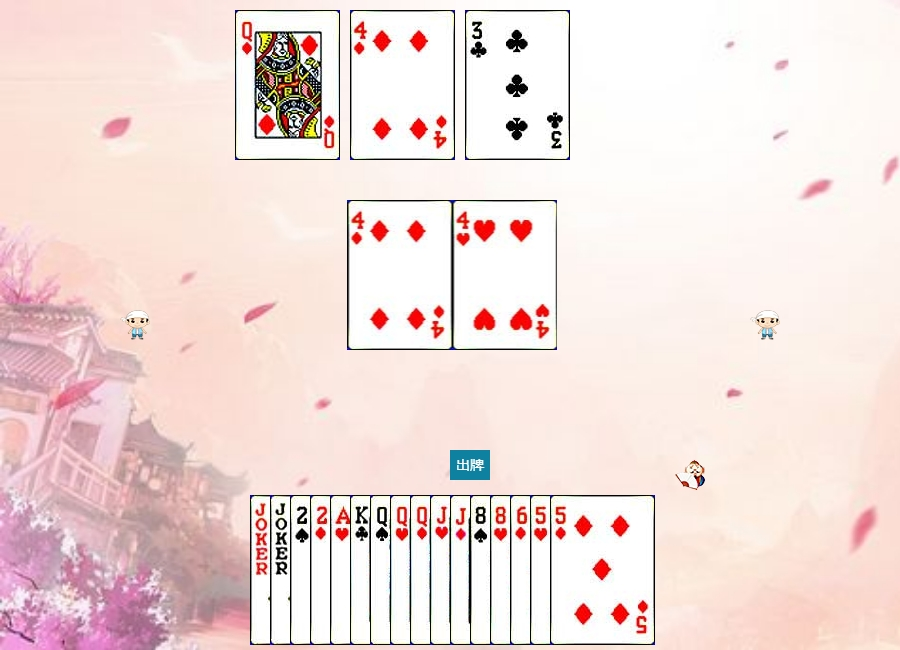11~1: (450, 495, 555, 645)
11~3: (430, 495, 535, 645)
12~1: (235, 10, 340, 160), (410, 495, 515, 645)
12~3: (390, 495, 495, 645)
12~4: (370, 495, 475, 645)
13~2: (350, 495, 455, 645)
14~3: (330, 495, 435, 645)
15~1: (310, 495, 415, 645)
15~4: (290, 495, 395, 645)
17~3: (270, 495, 375, 645)
18~4: (250, 495, 355, 645)
3~2: (465, 10, 570, 160)
4~1: (350, 10, 455, 160), (348, 200, 453, 350)
4~3: (453, 200, 558, 350)
5~1: (550, 495, 655, 645)
5~3: (530, 495, 635, 645)
6~1: (510, 495, 615, 645)
8~3: (490, 495, 595, 645)
8~4: (470, 495, 575, 645)
